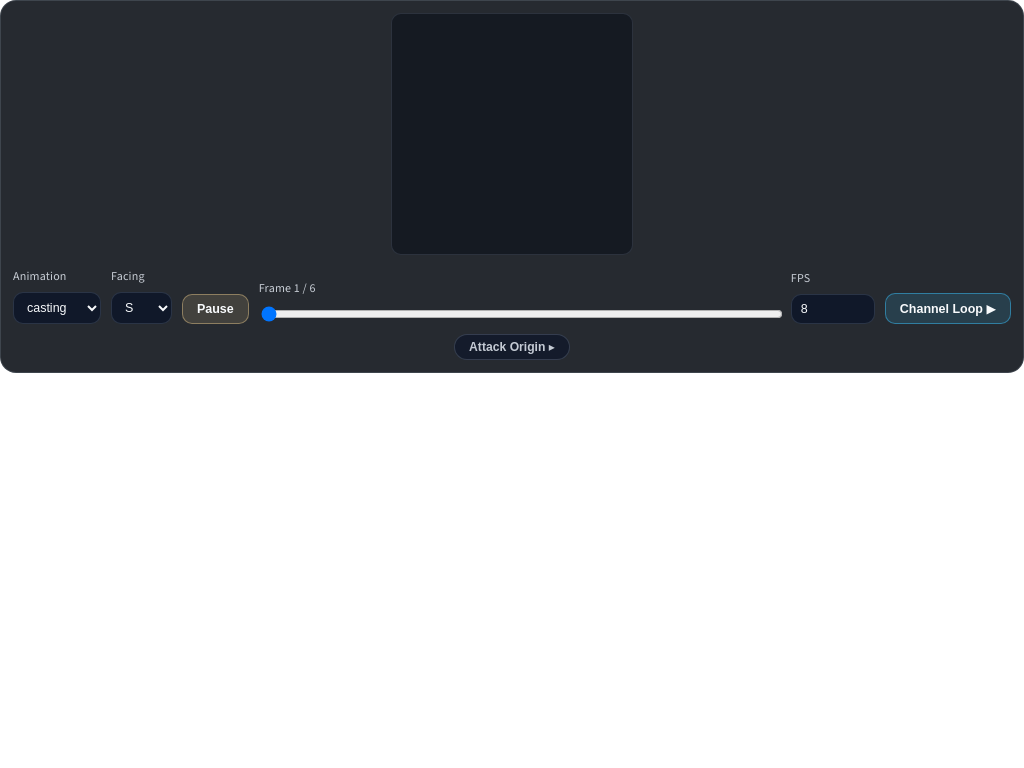
Scenario: UnitSpritePreview channel-loop preview › entering channel mode plays the casting sheet pinned to the loop start frame
Click the button "Channel Loop ▶" at [948, 309], box [885,293,1011,324]
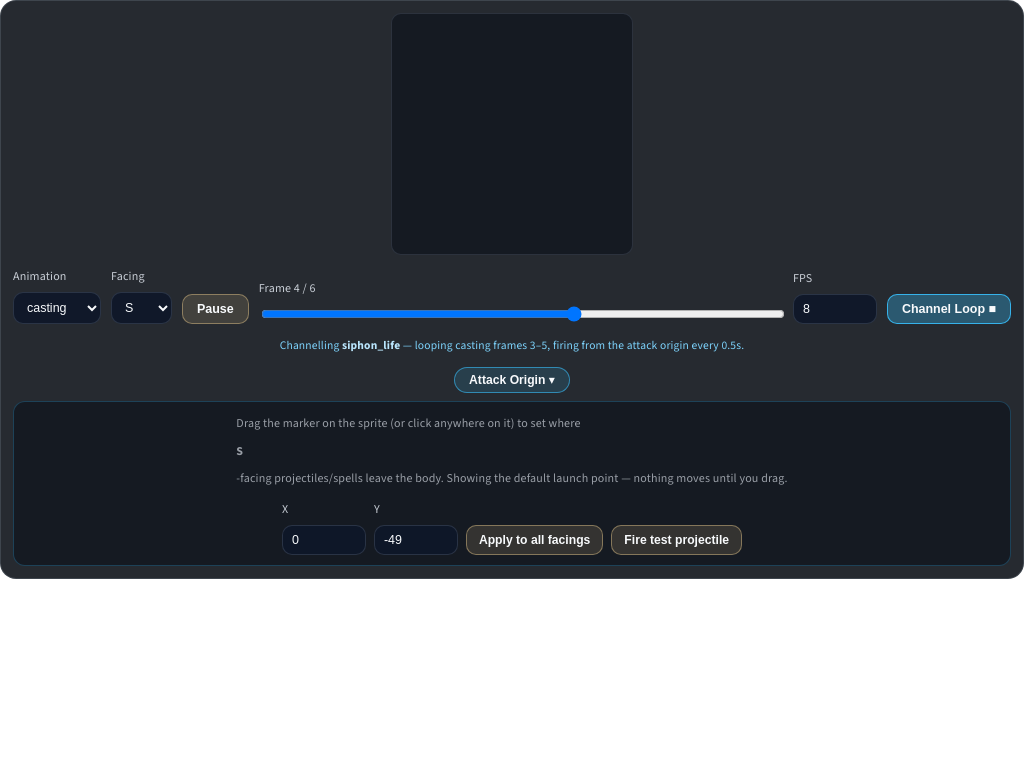
Expected: the dropdown labelled "Animation" shows "casting", [13,292,101,324]
Expected: the slider labelled "Frame 4 / 6" holds "3", [261,306,785,322]
